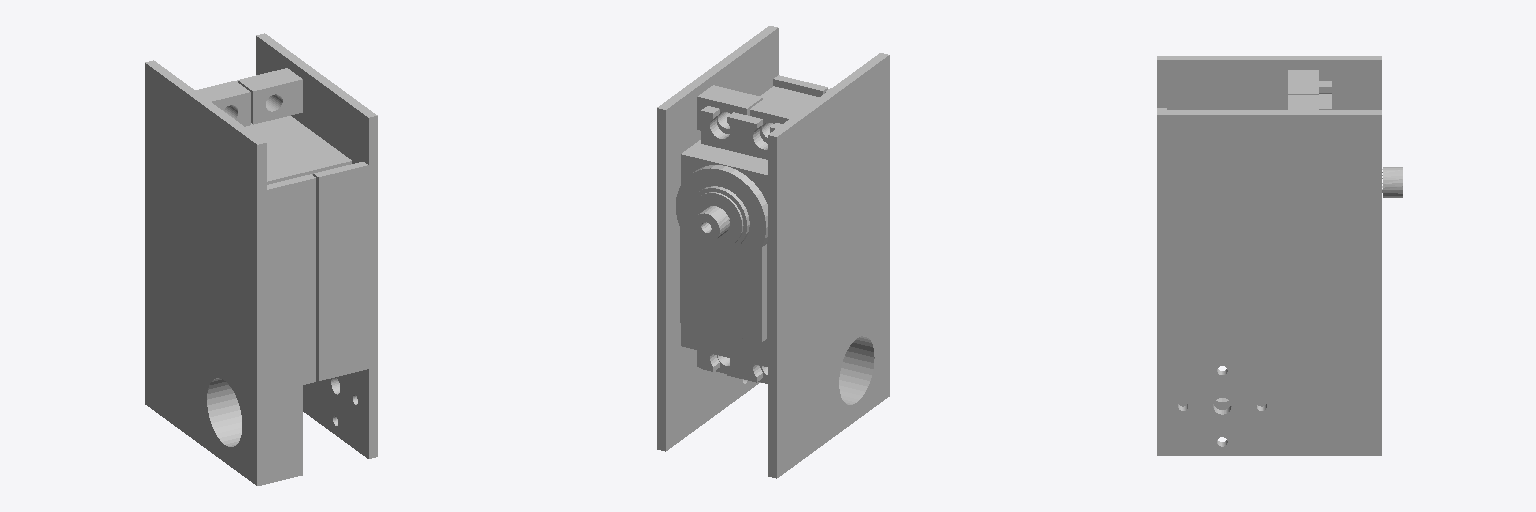
Rendered from virhas_pan.obj.
3 views of the same model, side by side, from view 1: azimuth 30°, elevation 25°; view 2: azimuth 150°, elevation 25°; view 3: azimuth 270°, elevation 25° (orthographic).
Visible parts, largest first — view 1: obj_0; view 2: obj_0; view 3: obj_0.
Boxes of the visible parts, <box> form: obj_0: <box>145,33,377,485</box>; obj_0: <box>657,26,889,478</box>; obj_0: <box>1157,56,1402,455</box>.
Bounding box in the file's own units: 26.5 × 72 × 47.